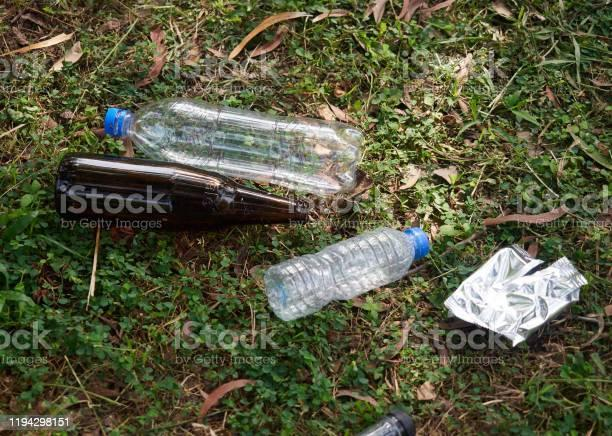plastic_bottle: (102, 90, 370, 199), (258, 225, 438, 320)
